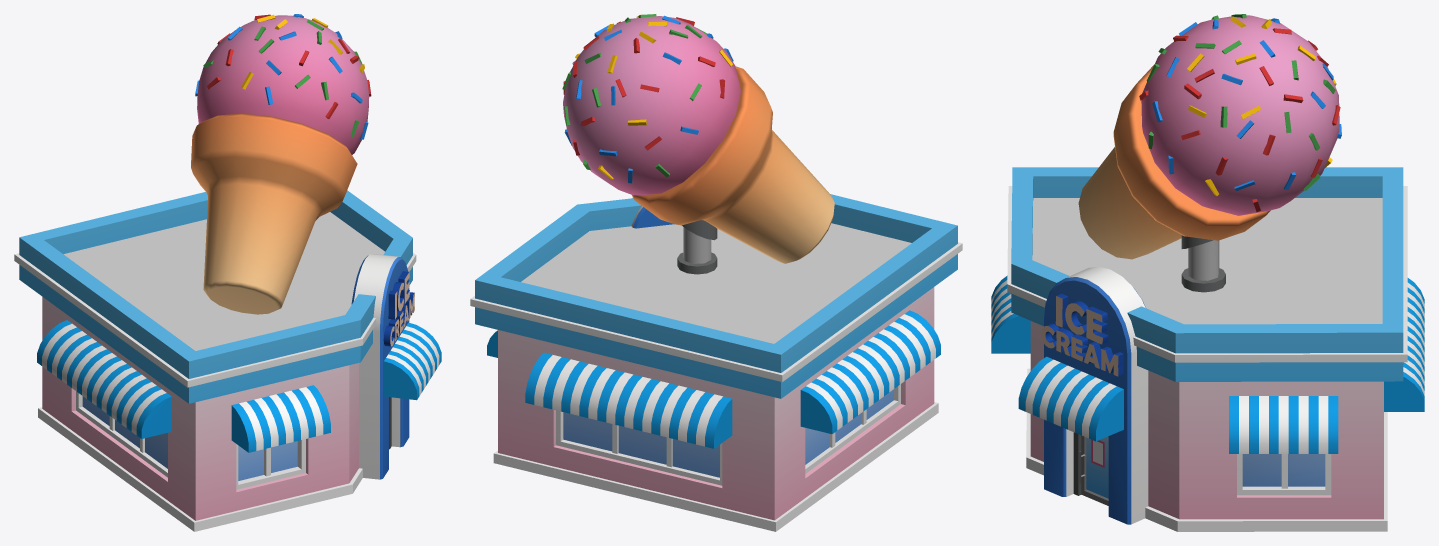
Rendered from ice_cream_shop_001.glb.
3 views of the same model, side by side, from view 1: azimuth 30°, elevation 25°; view 2: azimuth 150°, elevation 25°; view 3: azimuth 270°, elevation 25° (orthographic). The views are drawn at different scales.
Visible parts, largest first — view 1: ice_cream_shop_001; view 2: ice_cream_shop_001; view 3: ice_cream_shop_001.
Part boxes in pixels (x1=…): ice_cream_shop_001: x1=14, y1=14, x2=441, y2=531; ice_cream_shop_001: x1=470, y1=14, x2=962, y2=531; ice_cream_shop_001: x1=991, y1=14, x2=1424, y2=531.
Bounding box in the file's own units: 11.68 × 13.64 × 11.66.
Materials: 2 (2 with a texture image).
